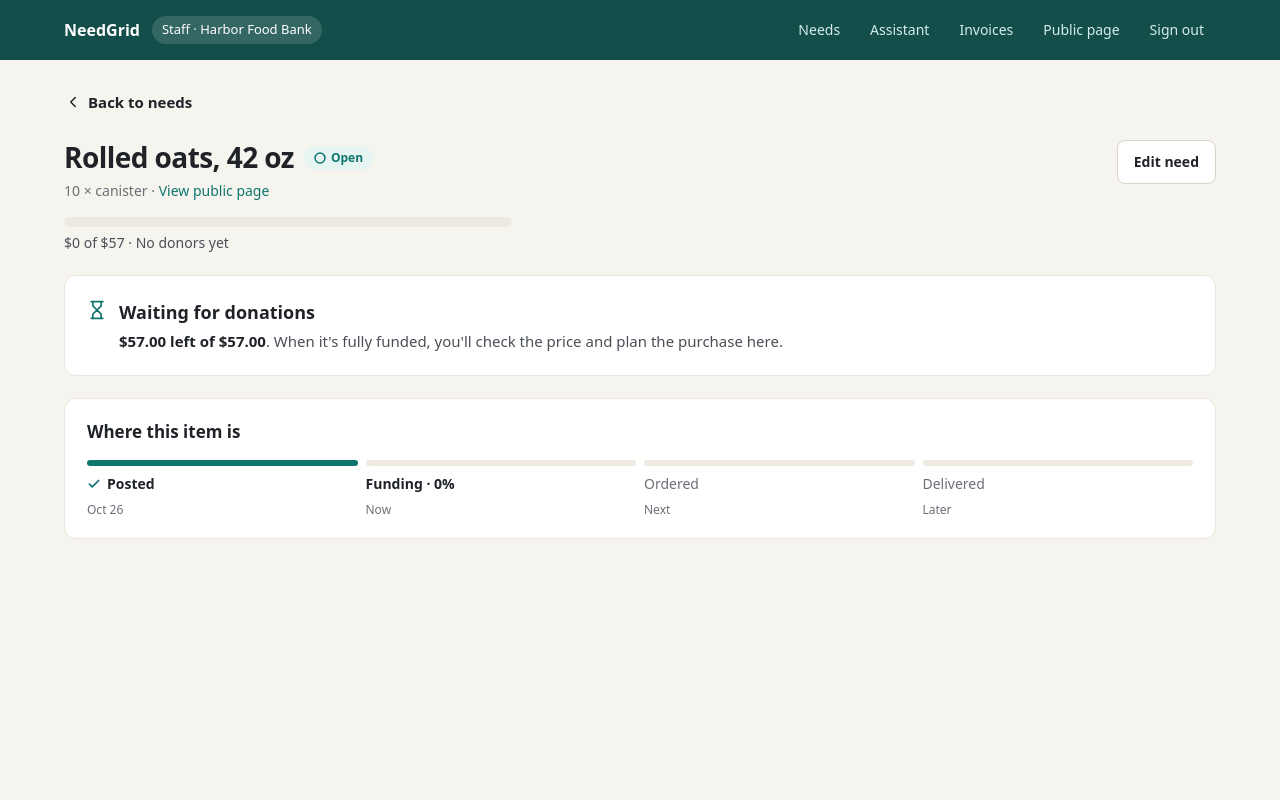
Test: Edit need dialog › lets the quantity change before any money arrived
The width and height of the screenshot is (1280, 800).
Expected: the heading "Rolled oats, 42 oz" is shown, [64,140,294,175]
Click the button "Edit need" at (1166, 162), box [1117,140,1216,184]
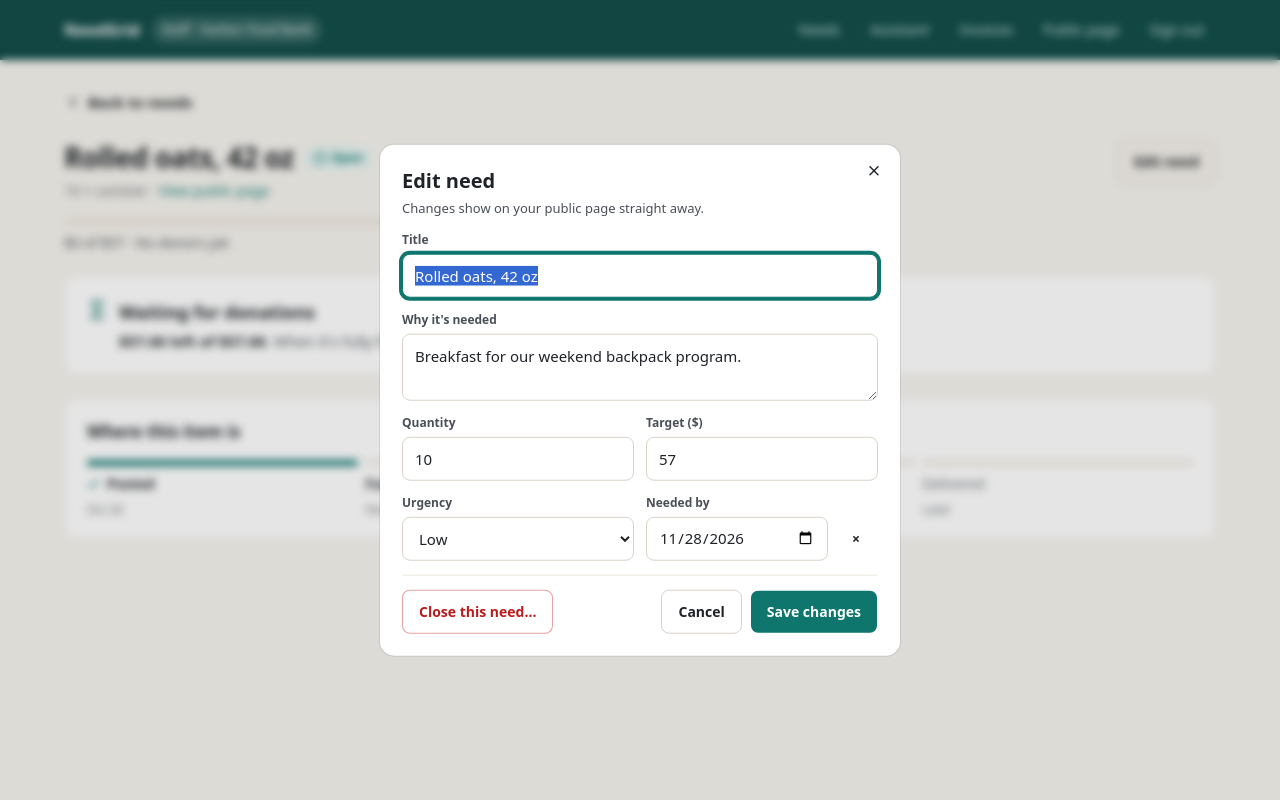
Expected: the field labelled "Quantity" is enabled
Replace the text in the field labelled "Quantity" with "12" at (518, 458), box [402,436,634,480]
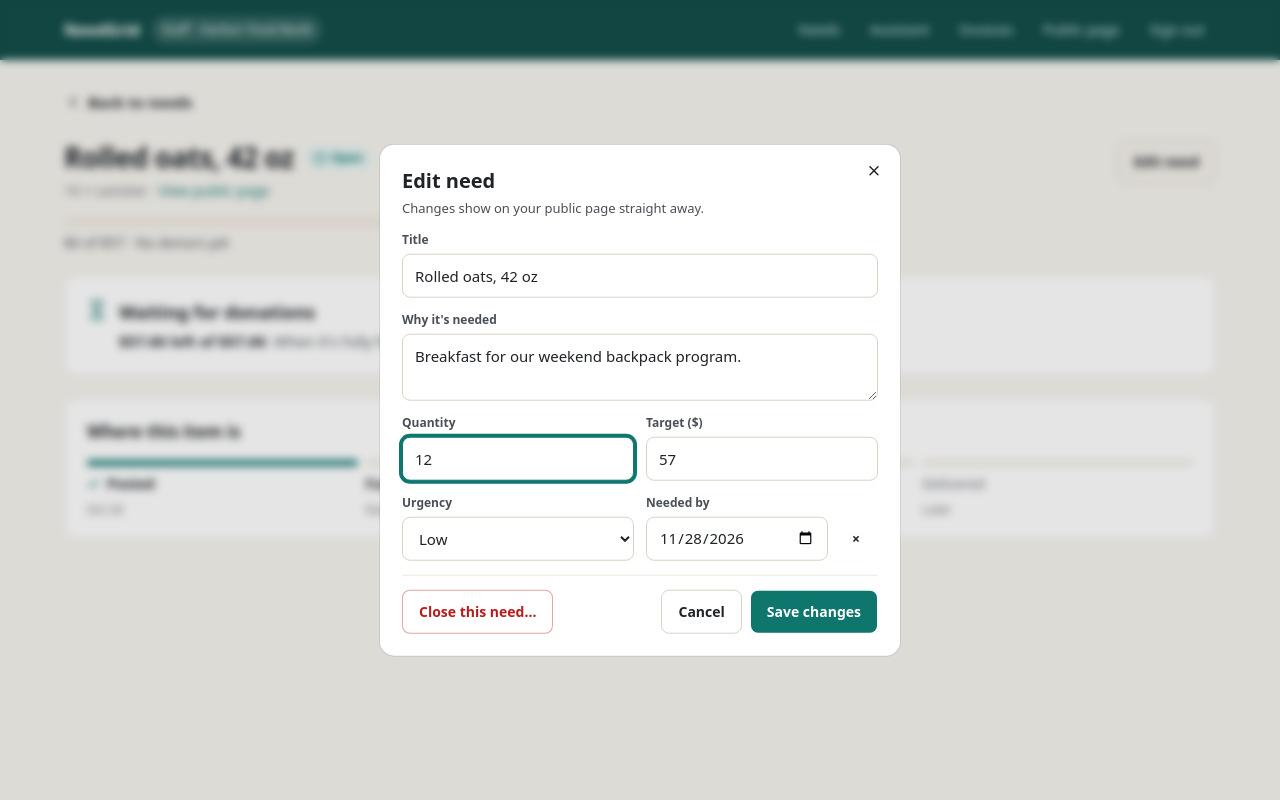
Click the button "Save changes" at (814, 611), box [750,589,878,633]
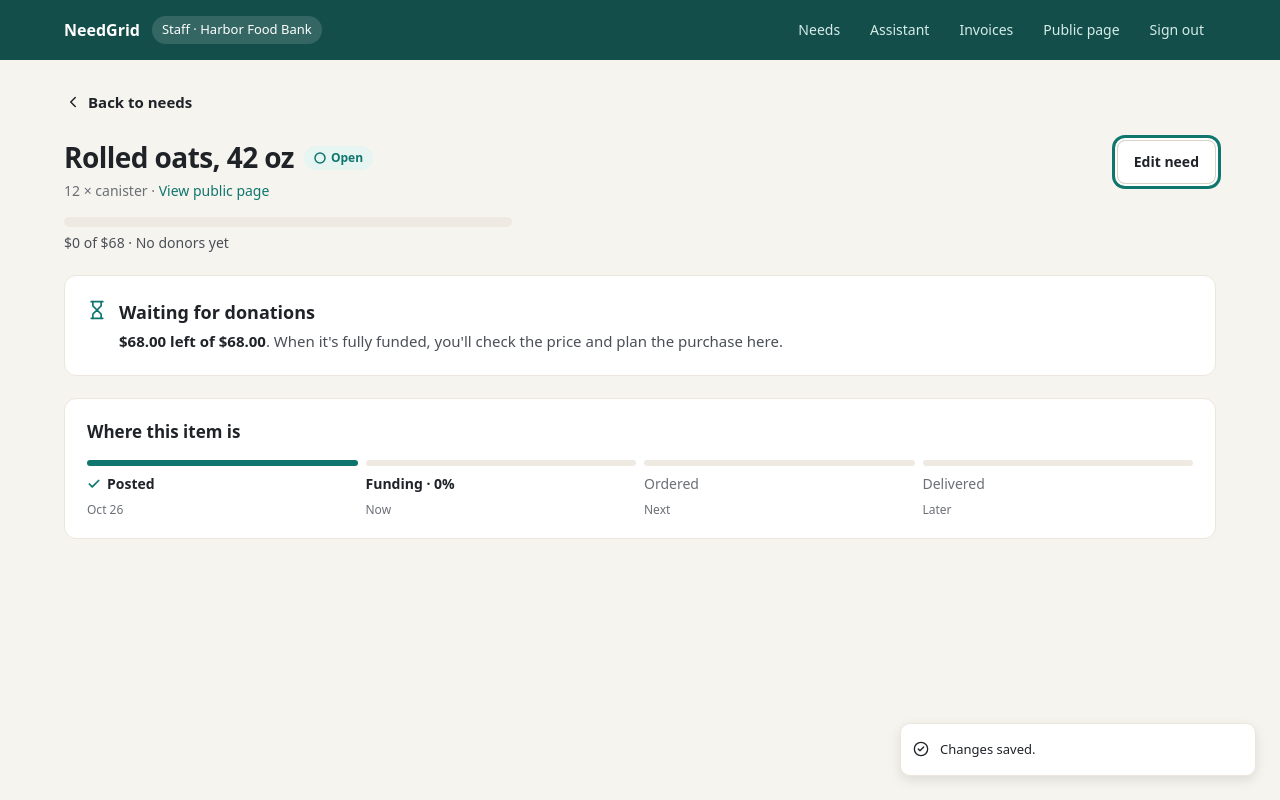
Expected: the text "Changes saved." is shown, [940,740,1036,759]
